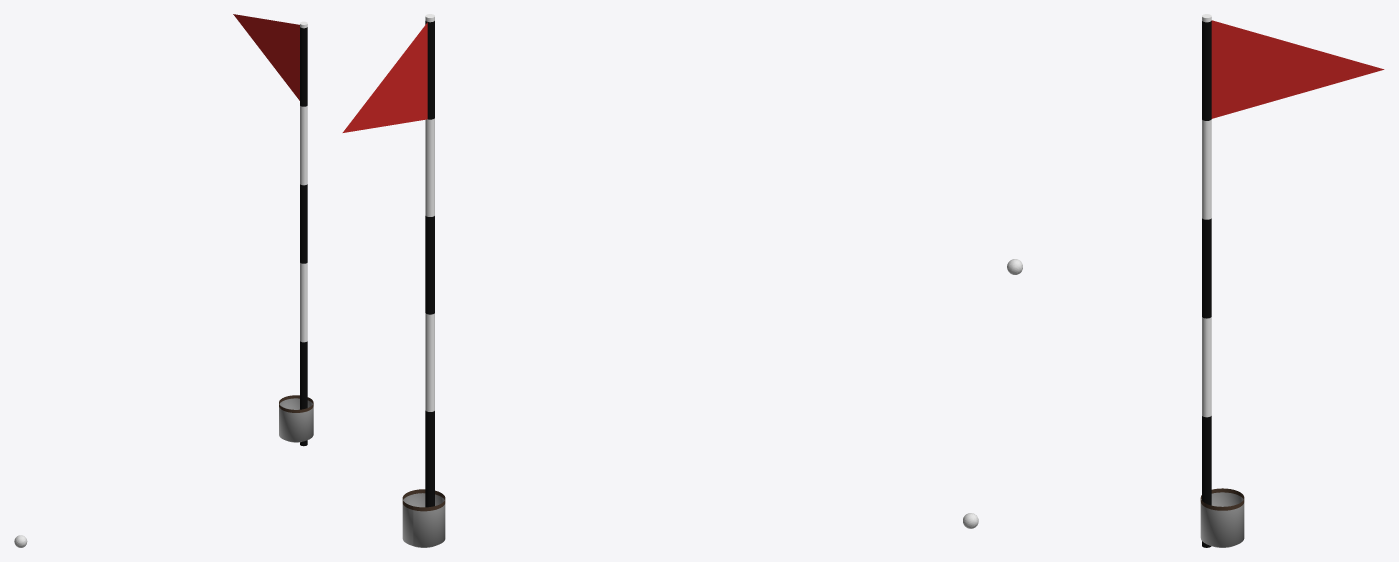
The model's file is level.glb.
3 views of the same model, side by side, from view 1: azimuth 30°, elevation 25°; view 2: azimuth 150°, elevation 25°; view 3: azimuth 270°, elevation 25° (orthographic). The views are drawn at different scales.
Parts seen in each view (by area): view 1: pole, flag, hole; view 2: pole, flag, hole; view 3: flag, pole, hole.
Boxes of the visible parts, x1,y1,x2,y2 form: pole: (300, 21, 307, 446); flag: (233, 14, 299, 100); hole: (279, 395, 313, 442); pole: (425, 14, 434, 507); flag: (342, 22, 427, 132); hole: (402, 489, 445, 547); flag: (1211, 20, 1384, 118); pole: (1202, 14, 1211, 547); hole: (1200, 488, 1244, 547).
Size of what is drawn, in the model's own units: 25.22 by 26.82 by 17.34.
